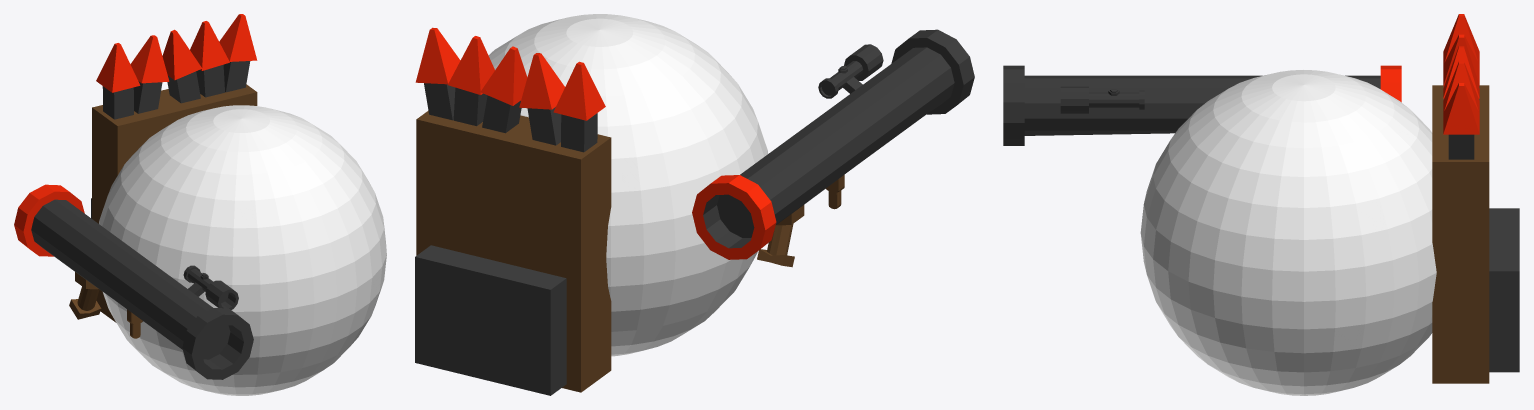
The model's file is RPGSoldier.fbx.
The picture shows the model from 3 angles, left to right: view 1: azimuth 30°, elevation 25°; view 2: azimuth 150°, elevation 25°; view 3: azimuth 270°, elevation 25°; orthographic projection. The views are drawn at different scales.
Parts seen in each view (by area): view 1: Sphere.001, Cylinder, Cube.012; view 2: Cube.012, Sphere.001, Cylinder; view 3: Sphere.001, Cube.012, Cylinder.
Part boxes in pixels (left/top/right/bottom): Sphere.001: left=99, top=105, right=386, bottom=395; Cylinder: left=14, top=184, right=253, bottom=379; Cube.012: left=91, top=14, right=257, bottom=322; Cube.012: left=415, top=27, right=611, bottom=395; Sphere.001: left=488, top=14, right=768, bottom=356; Cylinder: left=692, top=29, right=974, bottom=267; Sphere.001: left=1140, top=70, right=1436, bottom=395; Cube.012: left=1432, top=14, right=1519, bottom=383; Cylinder: left=1003, top=65, right=1401, bottom=145.
Size of the model in its own units: 2.46 by 2.28 by 3.16.
